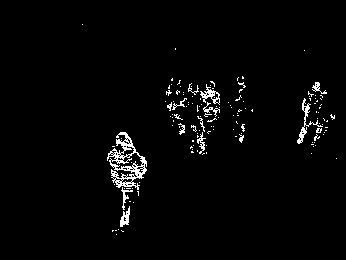person: (106, 128, 148, 233), (199, 79, 221, 155), (312, 85, 336, 150), (299, 80, 321, 145), (164, 70, 184, 140), (231, 74, 251, 144), (182, 77, 200, 153)
